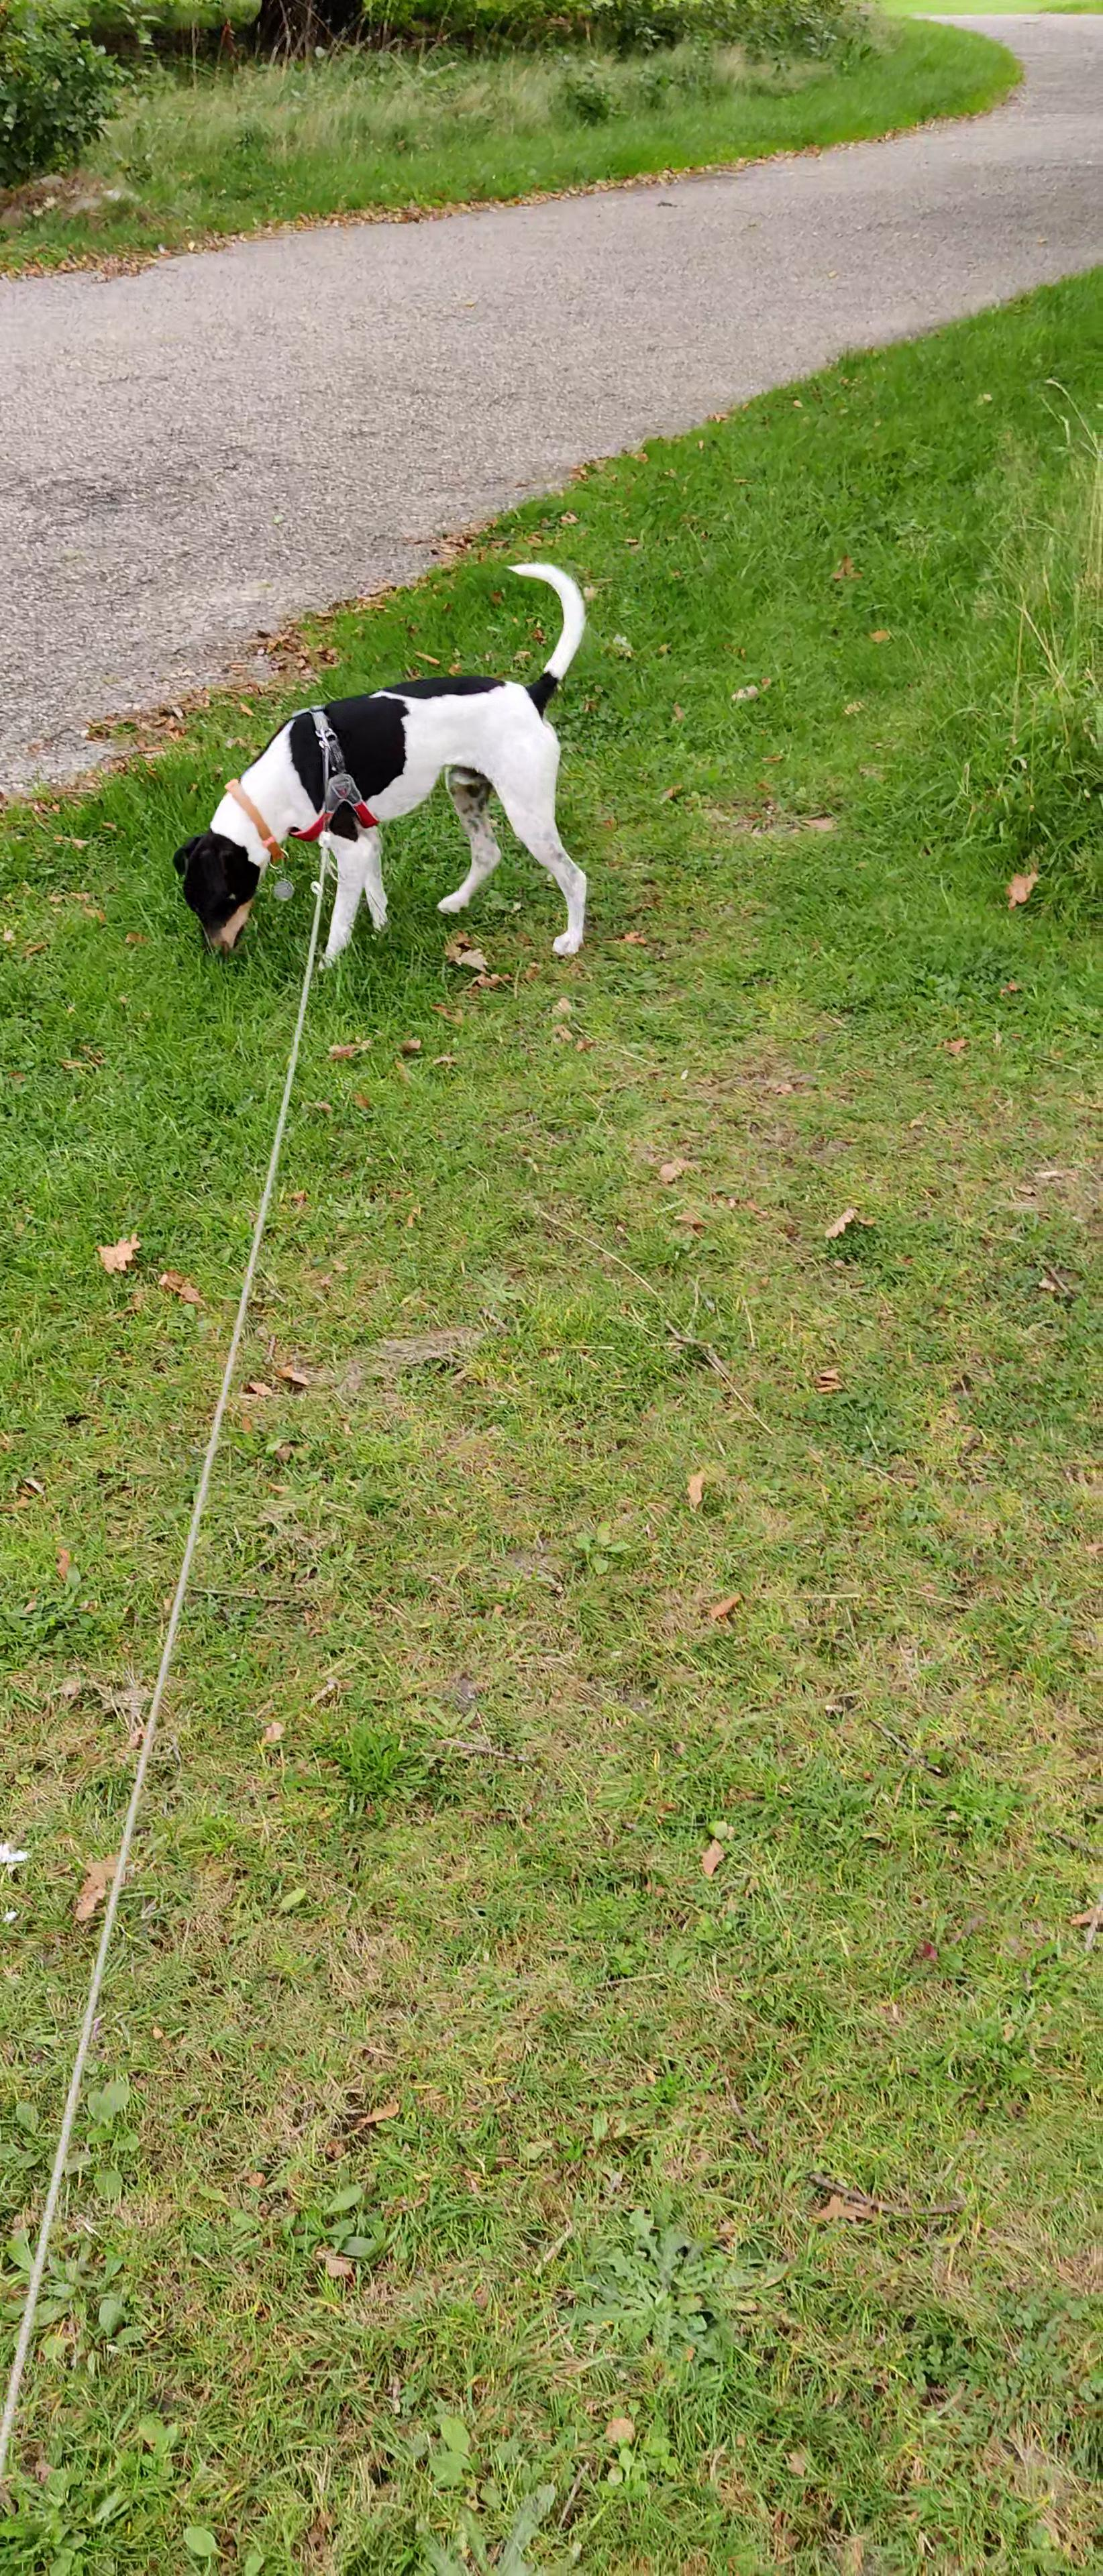Dog: (141, 539, 626, 987)
